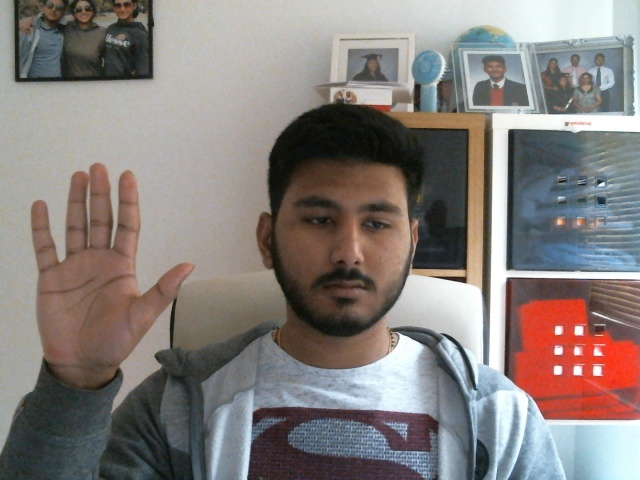hello: (30, 161, 194, 363)
